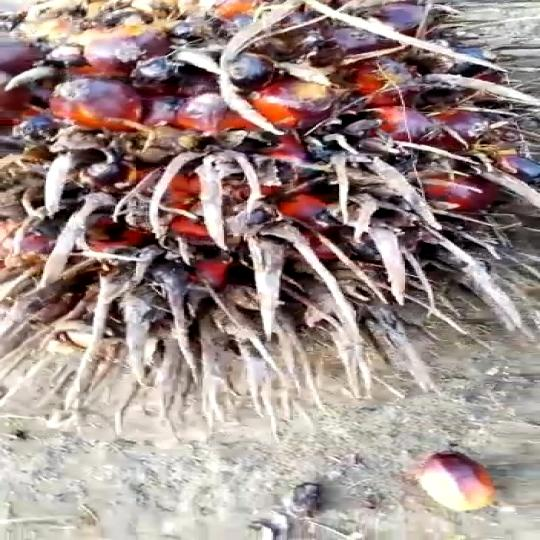terlalu masak: (0, 0, 540, 412)
